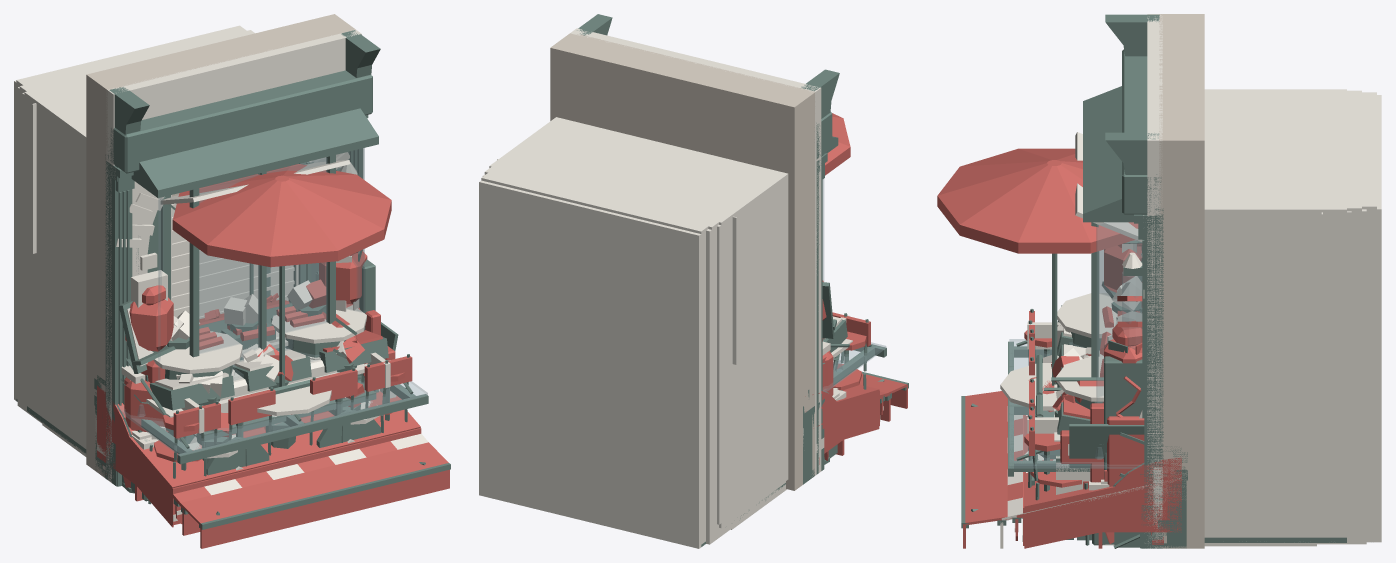
Rendered from kit.glb.
3 renders of one model, left to right at view 1: azimuth 30°, elevation 25°; view 2: azimuth 150°, elevation 25°; view 3: azimuth 270°, elevation 25°, orthographic. The views are drawn at different scales.
Parts seen in each view (by area): view 1: window-shop-steel-mannequins trim, street-cafe-parasol door, window-shop-bay frame, window-shop-bay glass, window-shop-stall-open frame, shop-awning-retract-open door, window-shop-stone-arcade trim, window-shop-victorian-books wall, shop-awning-boxed door, street-bistro-row door, shop-canopy-glass glass, window-shop-shutter-down trim (+42 smaller); view 2: door-shop-cafe-folding trim, window-shop-victorian-books wall, window-shop-steel-mannequins trim, window-shop-victorian-books trim, window-shop-tiled-samples wall, window-shop-castiron-deli wall, window-shop-steel-mannequins wall, door-shop-stall-open trim, window-shop-castiron-deli trim, window-shop-boutique-arched wall, window-shop-stone-arcade trim, window-shop-aluminium trim (+27 smaller); view 3: window-shop-steel-mannequins trim, window-shop-victorian-books wall, window-shop-stone-arcade trim, street-cafe-parasol door, door-shop-cafe-folding trim, window-shop-trattoria trim, window-shop-victorian-books frame, window-shop-bay frame, door-shop-stall-open trim, shop-awning-retract-open door, window-shop-victorian-books trim, window-shop-bay glass (+40 smaller).
Boxes of the visible parts, x1,y1,x2,y2 form: window-shop-steel-mannequins trim: [22, 77, 86, 447]; street-cafe-parasol door: [172, 164, 391, 267]; window-shop-bay frame: [131, 108, 378, 357]; window-shop-bay glass: [158, 148, 364, 380]; window-shop-stall-open frame: [27, 70, 372, 478]; shop-awning-retract-open door: [101, 424, 449, 548]; window-shop-stone-arcade trim: [49, 29, 361, 474]; window-shop-victorian-books wall: [86, 14, 354, 477]; shop-awning-boxed door: [117, 409, 421, 527]; street-bistro-row door: [154, 356, 412, 462]; shop-canopy-glass glass: [117, 379, 427, 455]; window-shop-shutter-down trim: [172, 203, 294, 318]; door-shop-cafe-folding trim: [479, 119, 777, 548]; window-shop-victorian-books wall: [550, 33, 815, 490]; window-shop-steel-mannequins trim: [489, 117, 788, 528]; window-shop-victorian-books trim: [517, 120, 776, 212]; window-shop-tiled-samples wall: [550, 34, 812, 462]; window-shop-castiron-deli wall: [550, 34, 813, 469]; window-shop-steel-mannequins wall: [550, 34, 808, 489]; door-shop-stall-open trim: [482, 120, 785, 544]; window-shop-castiron-deli trim: [504, 123, 784, 212]; window-shop-boutique-arched wall: [574, 54, 769, 161]; window-shop-stone-arcade trim: [534, 28, 824, 472]; window-shop-aluminium trim: [503, 118, 785, 214]; window-shop-steel-mannequins trim: [1204, 89, 1351, 534]; window-shop-victorian-books wall: [1159, 14, 1204, 548]; window-shop-stone-arcade trim: [1143, 14, 1324, 548]; street-cafe-parasol door: [937, 148, 1138, 253]; door-shop-cafe-folding trim: [1204, 92, 1381, 542]; window-shop-trattoria trim: [1150, 95, 1361, 540]; window-shop-victorian-books frame: [1105, 14, 1162, 548]; window-shop-bay frame: [1083, 86, 1133, 377]; door-shop-stall-open trim: [1204, 90, 1366, 544]; shop-awning-retract-open door: [963, 391, 1163, 548]; window-shop-victorian-books trim: [1204, 94, 1324, 204]; window-shop-bay glass: [1096, 222, 1142, 402].
Bounding box in the file's own units: 2.01 × 3.02 × 2.96.
